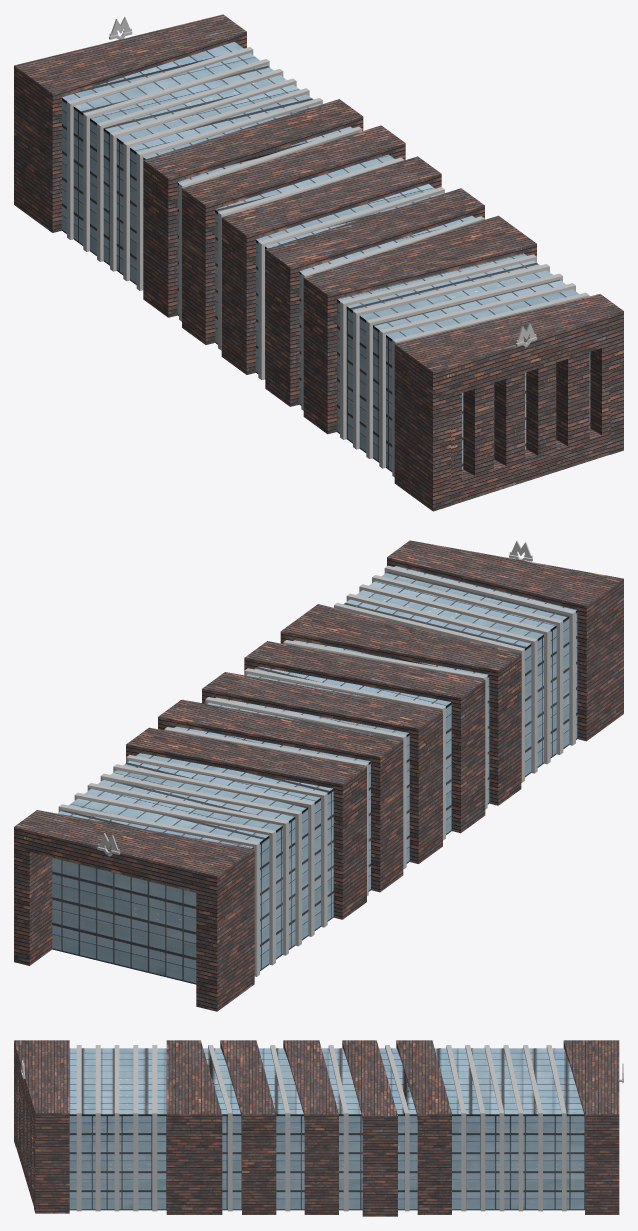
Rendered from SM_SubwayDown_v04.FBX.
3 views of the same model, one above another, from view 1: azimuth 30°, elevation 25°; view 2: azimuth 150°, elevation 25°; view 3: azimuth 270°, elevation 25° (orthographic). The views are drawn at different scales.
Visible parts, largest first — view 1: SM_SubwayDown_v04_000; view 2: SM_SubwayDown_v04_000; view 3: SM_SubwayDown_v04_000.
Part boxes in pixels (x1,y1,x2,y2): SM_SubwayDown_v04_000: (14,14,623,511); SM_SubwayDown_v04_000: (14,540,623,1011); SM_SubwayDown_v04_000: (14,1040,623,1216).
Bounding box in the file's own units: 7.54 × 5.33 × 25.75.
